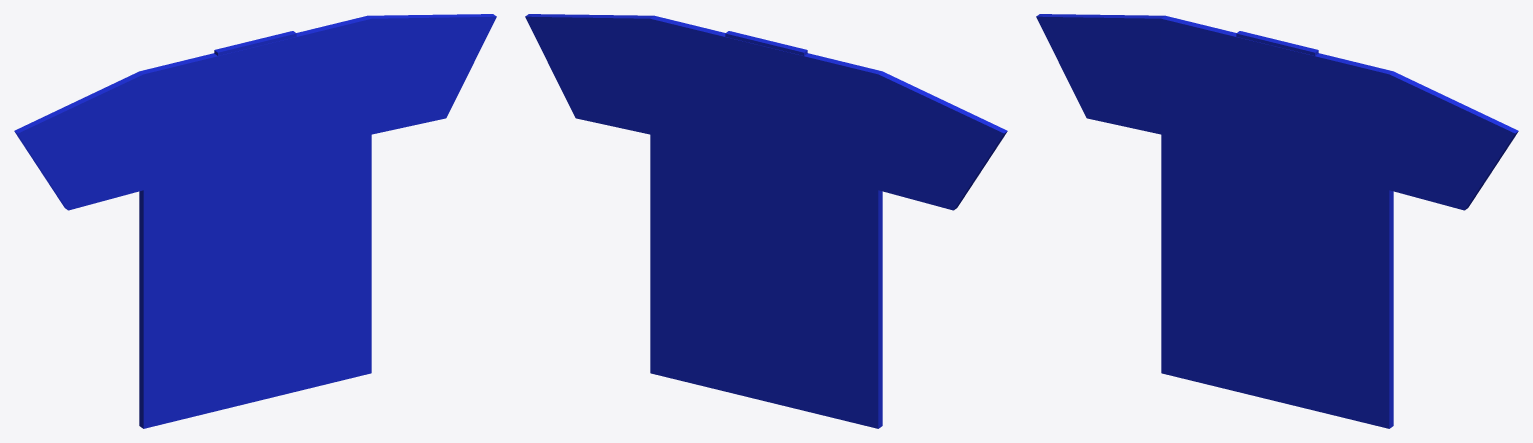
Rendered from t-shirt.fbx.
The picture shows the model from 3 angles, left to right: view 1: azimuth 30°, elevation 25°; view 2: azimuth 150°, elevation 25°; view 3: azimuth 330°, elevation 25°; orthographic projection.
Parts seen in each view (by area): view 1: Cube; view 2: Cube; view 3: Cube.
Part boxes in pixels (bbox=[...]): Cube: bbox=[14, 14, 496, 428]; Cube: bbox=[525, 14, 1007, 428]; Cube: bbox=[1036, 14, 1518, 428].
Bounding box in the file's own units: 398 × 284 × 5.98.
